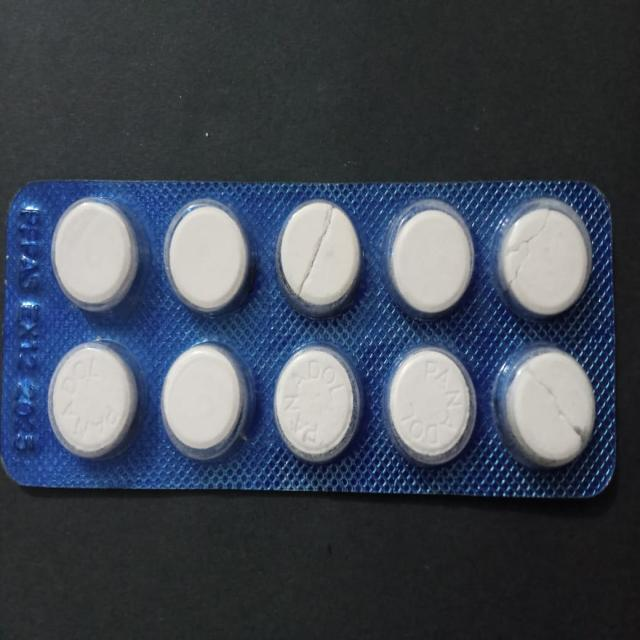defect: (492, 342, 600, 473), (493, 198, 597, 322), (273, 195, 366, 322)
